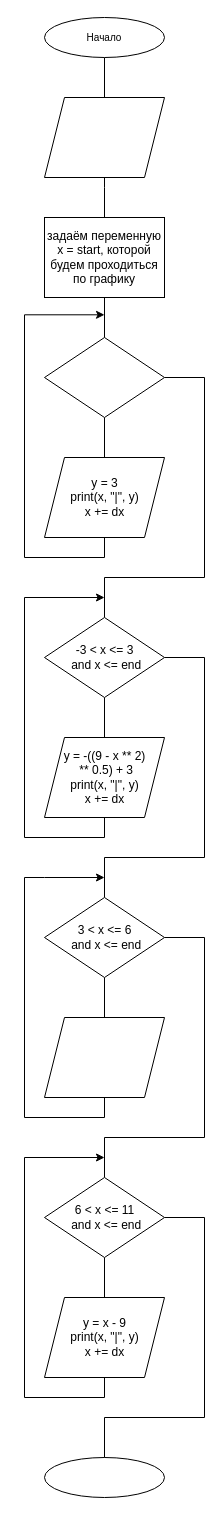
Some shapes in this 223 by 1515 pixel diagram are drawn without their labels. Here are the shapes that lost their labels. From the top down, the box of each, then its label:
(44, 96, 164, 178): Ввод значений промежутков интервала и шаг (start, end, dx)
(44, 336, 164, 418): -7 <= x <= -3 and x <= end
(44, 1016, 164, 1098): y = -2 * x + 9 print(x, "|", y) x += dx
(44, 1456, 164, 1498): Конец
